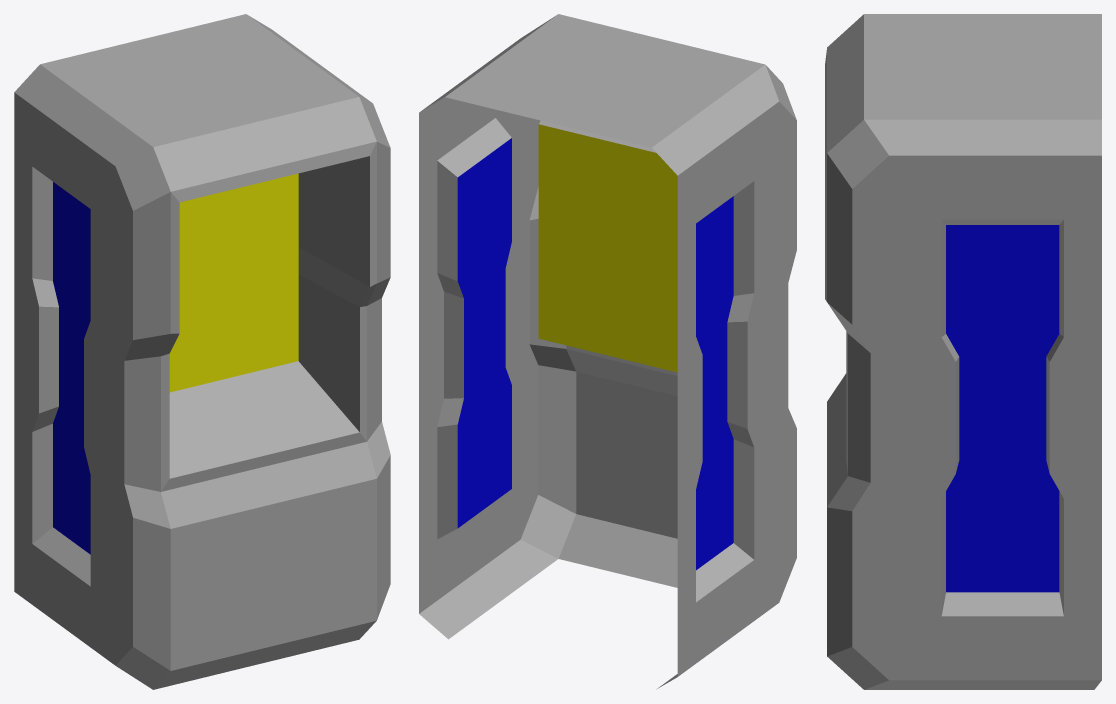
File: wpHpStation.fbx
The picture shows the model from 3 angles, left to right: view 1: azimuth 30°, elevation 25°; view 2: azimuth 150°, elevation 25°; view 3: azimuth 270°, elevation 25°; orthographic projection. The views are drawn at different scales.
Visible parts, largest first — view 1: wpHpStation_high1; view 2: wpHpStation_high1; view 3: wpHpStation_high1.
Boxes of the visible parts, bbox=[...] form: wpHpStation_high1: bbox=[14, 14, 390, 689]; wpHpStation_high1: bbox=[419, 14, 796, 689]; wpHpStation_high1: bbox=[825, 14, 1101, 689].
Size of the model in its own units: 0.9411 by 1.89 by 0.8336.
